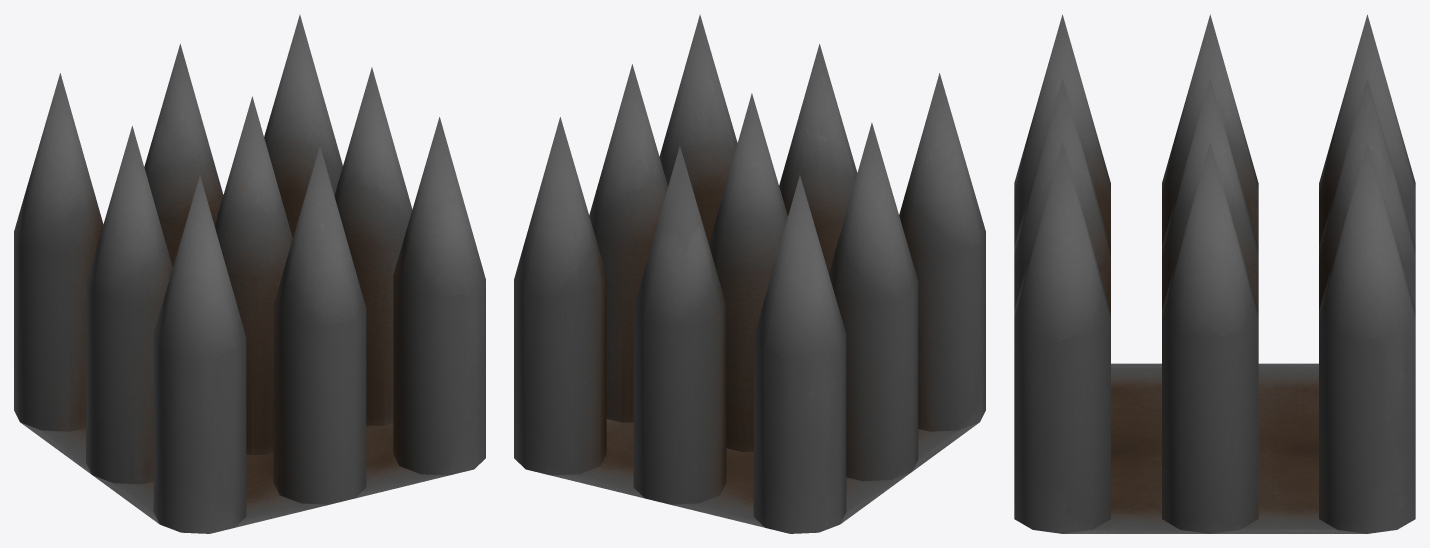
Rendered from Spikes.fbx.
3 renders of one model, left to right at view 1: azimuth 30°, elevation 25°; view 2: azimuth 150°, elevation 25°; view 3: azimuth 270°, elevation 25°, orthographic. The views are drawn at different scales.
Visible parts, largest first — view 1: pCylinder10; view 2: pCylinder10; view 3: pCylinder10.
Boxes of the visible parts, x1,y1,x2,y2 form: pCylinder10: [14, 14, 485, 533]; pCylinder10: [514, 14, 985, 533]; pCylinder10: [1014, 14, 1415, 533].
Bounding box in the file's own units: 0.5312 × 0.5391 × 0.5286.
1 material, 1 textured.
